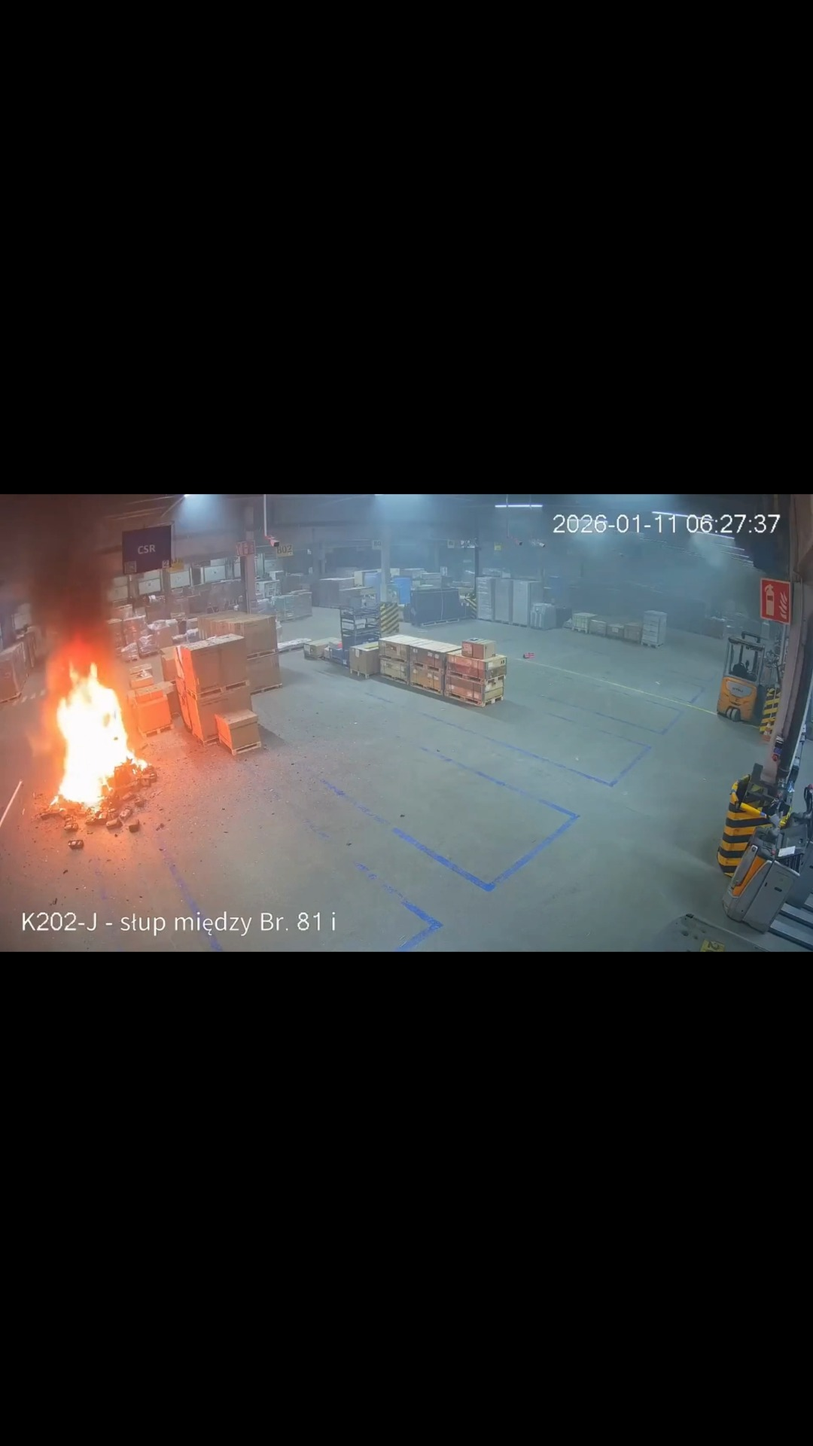fire: (37, 630, 157, 816)
smoke: (0, 496, 154, 676)
